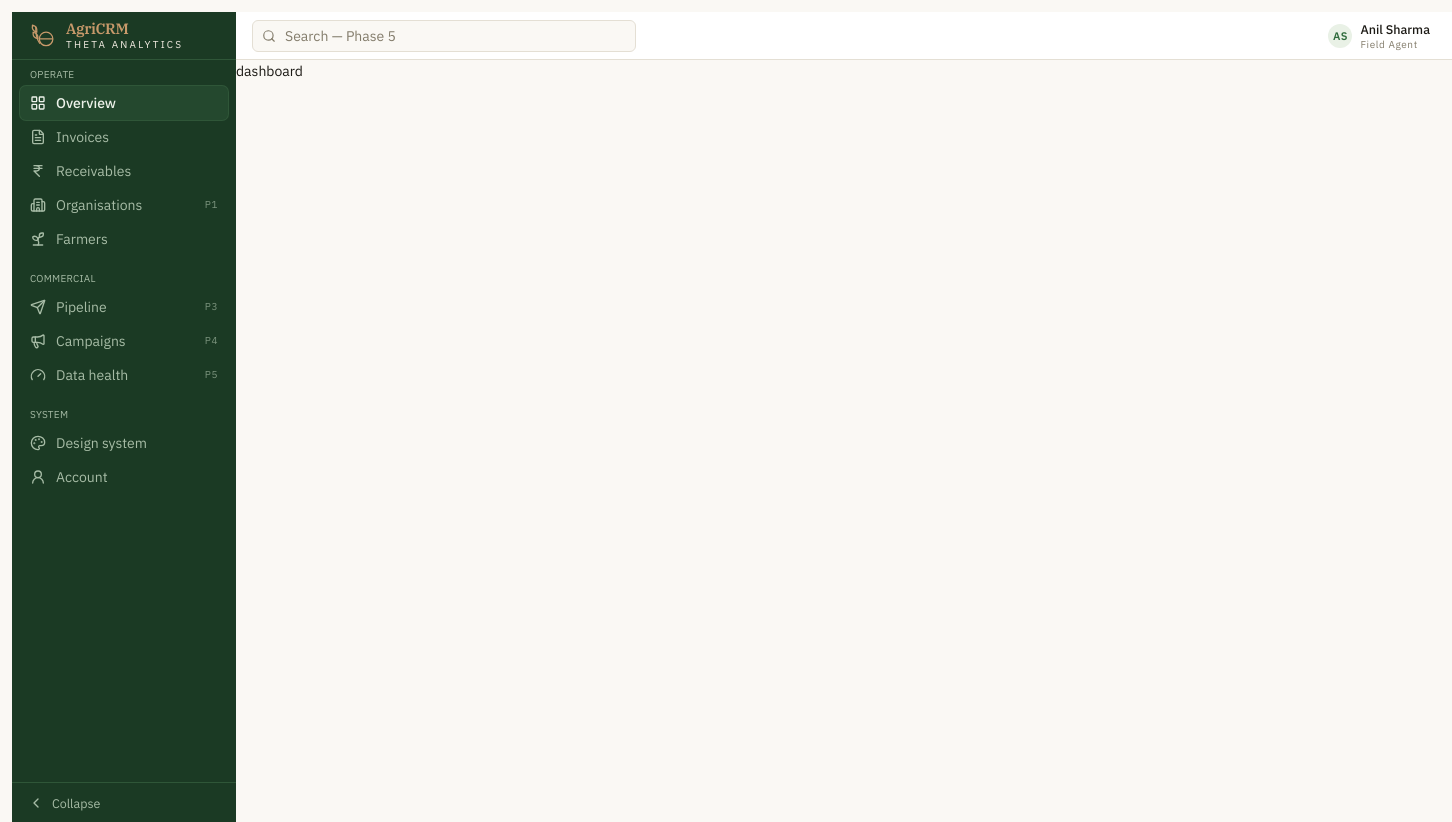
the account menu › navigates to the account page when Account is chosen
This screenshot has width=1452, height=822.
Click the button with aria-label "account menu" at x=1379, y=36, box [1322,16,1436,56]
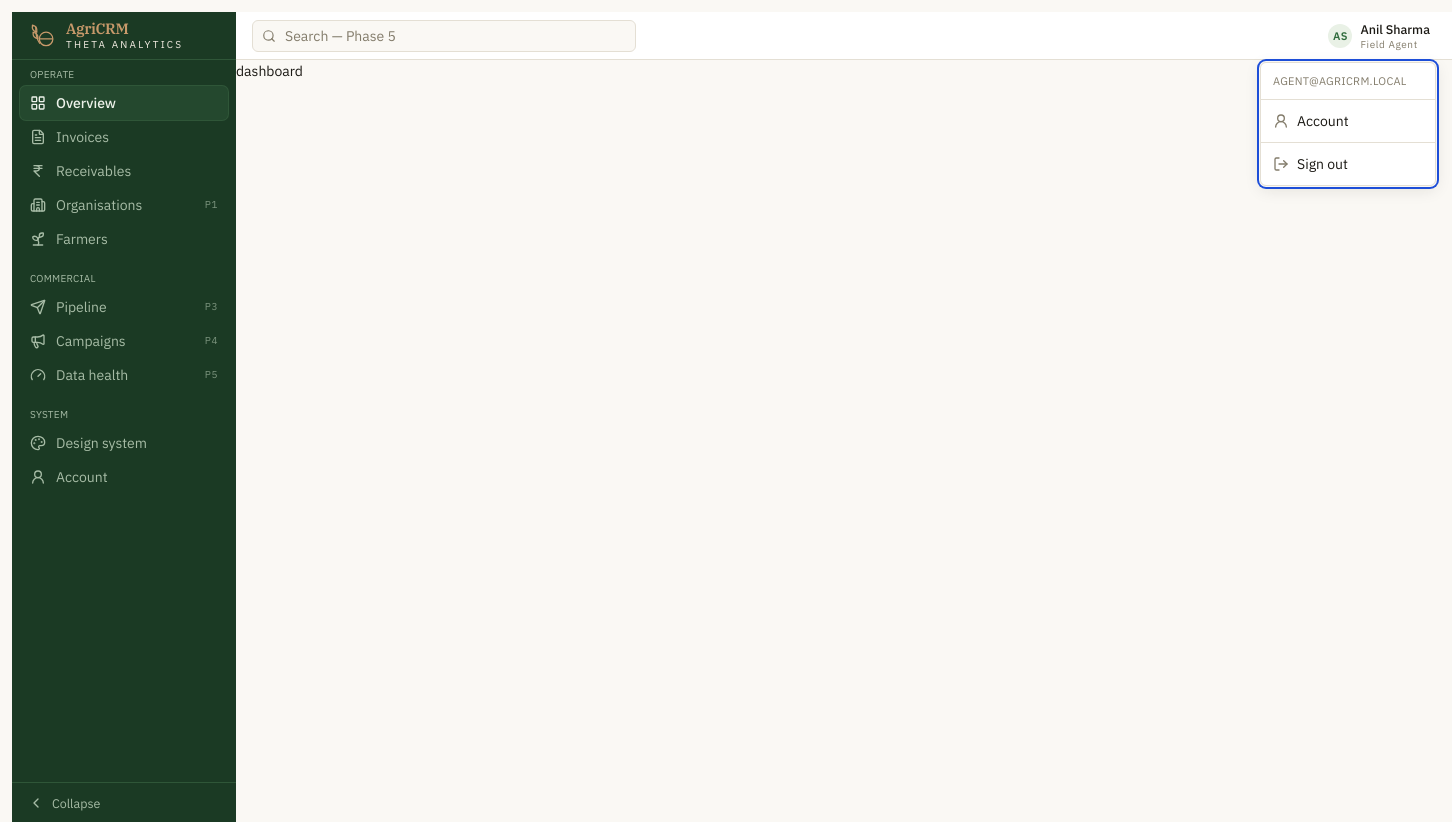
Click the menu item "Account" at x=1311, y=121, box [1273,112,1349,130]
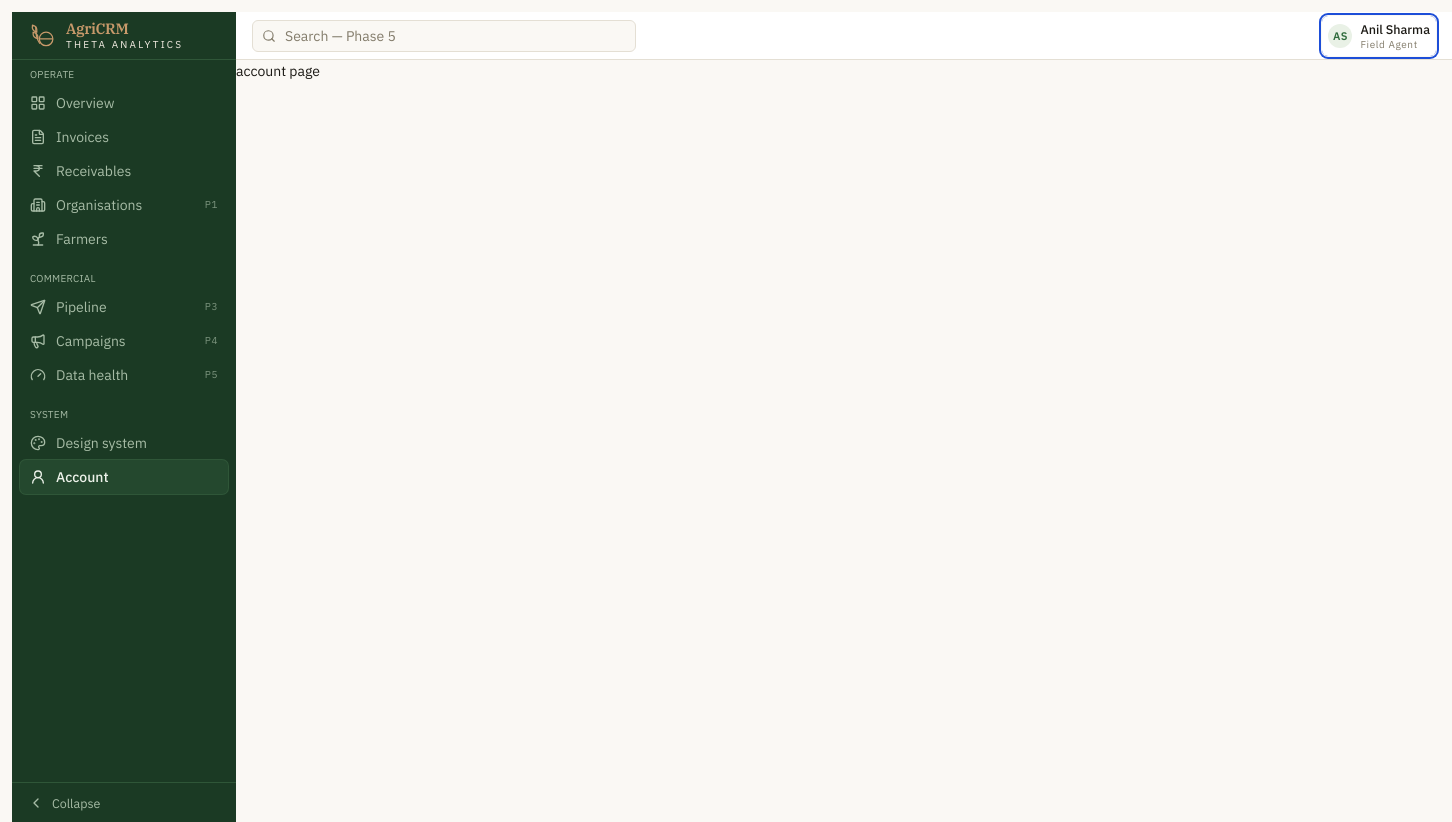
expect the text "account page" is shown: met, box [236,62,320,80]
